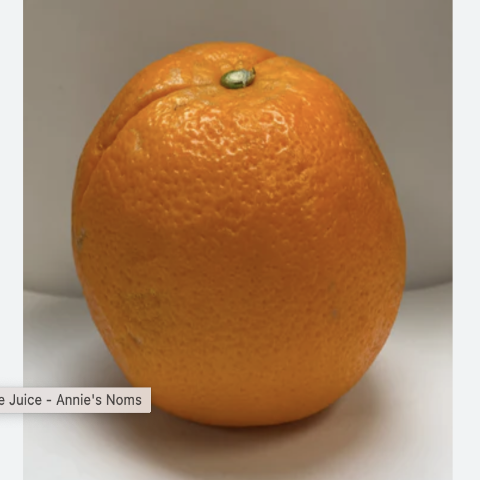orange: (44, 18, 424, 427)
